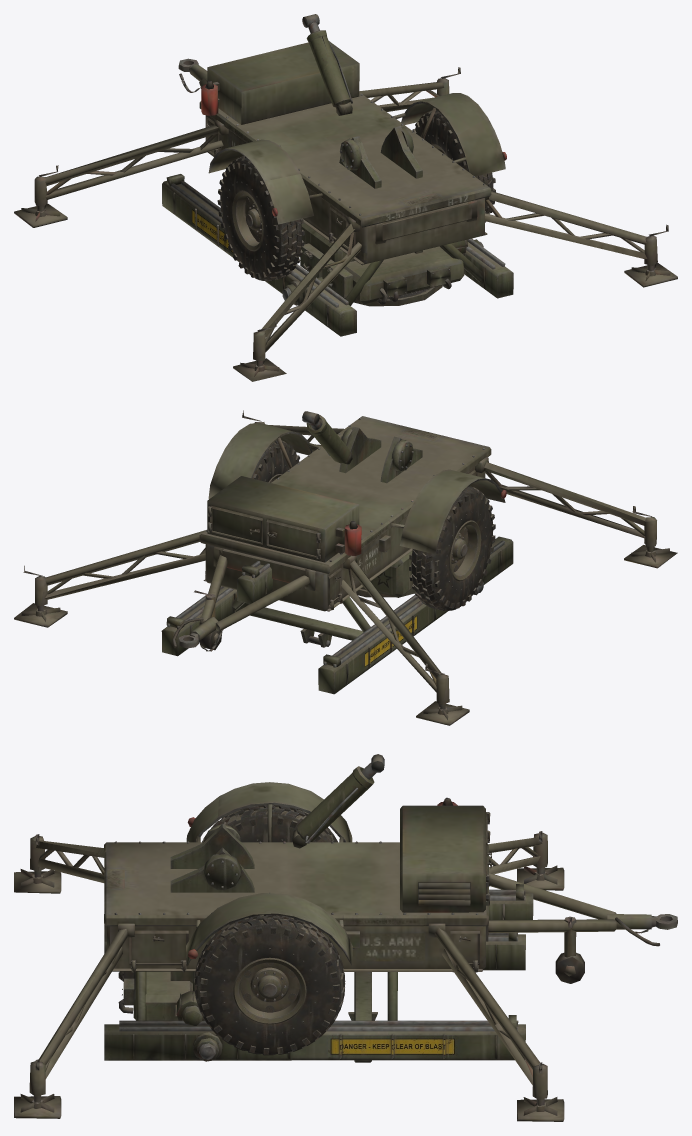
File: hawk_lo.glb
3 renders of one model, top to bottom at view 1: azimuth 30°, elevation 25°; view 2: azimuth 150°, elevation 25°; view 3: azimuth 270°, elevation 25°, orthographic. The views are drawn at different scales.
Parts seen in each view (by area): view 1: body|HW_H, turret|HW_T, body|HW_R, cradle|HW_G, cyl0|HW_K; view 2: body|HW_H, cradle|HW_G, body|HW_R, turret|HW_T, cyl0|HW_K; view 3: body|HW_H, body|HW_R, cradle|HW_G, turret|HW_T, cyl0|HW_K.
Part boxes in pixels (bbox=[...]): body|HW_H: bbox=[14, 41, 677, 381]; turret|HW_T: bbox=[299, 126, 467, 306]; body|HW_R: bbox=[217, 110, 495, 281]; cradle|HW_G: bbox=[162, 174, 513, 336]; cyl0|HW_K: bbox=[306, 30, 352, 115]; body|HW_H: bbox=[14, 410, 677, 725]; cradle|HW_G: bbox=[161, 536, 513, 694]; body|HW_R: bbox=[252, 440, 495, 610]; turret|HW_T: bbox=[339, 426, 422, 597]; cyl0|HW_K: bbox=[306, 414, 352, 464]; body|HW_H: bbox=[14, 782, 677, 1121]; body|HW_R: bbox=[194, 805, 345, 1055]; cradle|HW_G: bbox=[104, 884, 533, 1062]; turret|HW_T: bbox=[118, 824, 254, 1025]; cyl0|HW_K: bbox=[292, 766, 374, 848].
Size of the model in its own units: 4.02 by 2.07 by 4.49.
7 materials, 7 textured.
